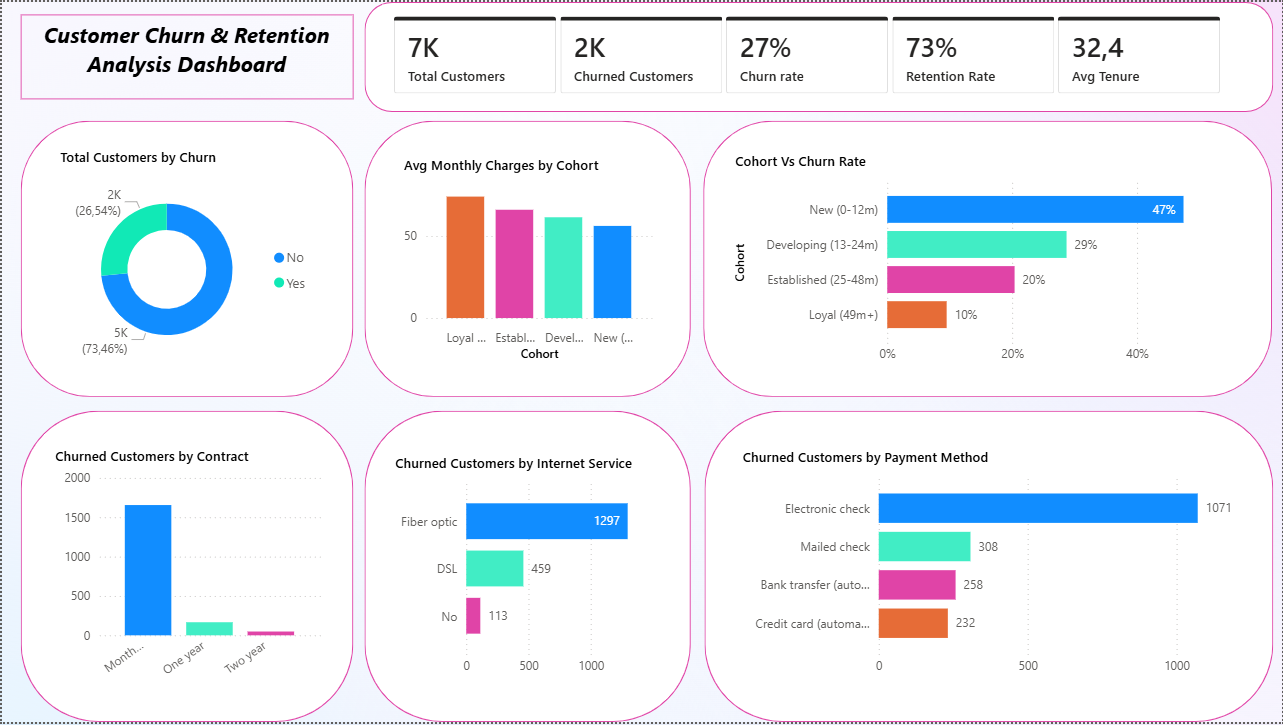

Layout of this report page (visuals, bound fields, positions):
{"tool":"powerbi","page":{"name":"Page 1","canvas":[1280,720],"ordinal":0},"visuals":[{"type":"group","id":"g1","title":"Group 3","box":[362.5,118.8,326.2,276.2],"z":0},{"type":"shape","box":[701.2,119.1,568.8,276.2],"z":0,"group":"g6"},{"type":"shape","box":[362.5,0,908.8,110],"z":1000},{"type":"shape","box":[18.8,118.8,332.5,276.2],"z":1000,"group":"g4"},{"type":"shape","box":[362.5,118.8,326.2,276.2],"z":1000,"group":"g1"},{"type":"clusteredBarChart","title":"Cohort Vs Churn Rate","fields":{"Category":["Telco.Cohort"],"Y":["Telco.Churn rate"]},"box":[730.9,140.7,504.6,237.5],"z":1000,"group":"g6"},{"type":"clusteredColumnChart","title":"Avg Monthly Charges by Cohort","fields":{"Y":["Telco.Avg Monthly Charges"],"Category":["Telco.Cohort"]},"box":[390,141.2,272.5,230],"z":2000},{"type":"shape","box":[18.8,408.8,332.5,311.2],"z":2000,"group":"g2"},{"type":"cardVisual","fields":{"Data":["Telco.Total Customers","Telco.Churned Customers","Telco.Churn rate","Telco.Retention Rate","Telco.Avg Tenure"]},"box":[380.6,2.4,852.9,101.8],"z":3000},{"type":"group","id":"g2","title":"Group 5","box":[18.8,408.8,332.5,311.2],"z":4000},{"type":"shape","box":[362.5,408.8,326.2,311.2],"z":4000,"group":"g5"},{"type":"group","id":"g3","title":"Group 6","box":[702.5,408.8,568.8,311.2],"z":5000},{"type":"group","id":"g4","title":"Group 3","box":[18.8,118.8,332.5,276.2],"z":6000},{"type":"shape","box":[702.5,408.8,568.8,311.2],"z":6000,"group":"g3"},{"type":"donutChart","title":"Total Customers by Churn","fields":{"Category":["Telco.Churn"],"Y":["Telco.Total Customers"]},"box":[46.1,133.8,278,245],"z":7000,"group":"g4"},{"type":"group","id":"g5","title":"Group 4","box":[362.5,408.8,326.2,311.2],"z":7000},{"type":"textbox","box":[18.8,12.5,332.5,85],"z":8000},{"type":"clusteredColumnChart","title":"Churned Customers by Contract","fields":{"Category":["Telco.Contract"],"Y":["Telco.Churned Customers"]},"box":[41.6,436.6,282.5,256.2],"z":8000,"group":"g2"},{"type":"group","id":"g6","title":"Group 1","box":[701.2,119.1,568.8,276.2],"z":9000},{"type":"clusteredBarChart","title":"Churned Customers by Internet Service","fields":{"Category":["Telco.InternetService"],"Y":["Telco.Churned Customers"]},"box":[380.6,440.4,291.2,248.8],"z":9000,"group":"g5"},{"type":"clusteredBarChart","title":"Churned Customers by Payment Method","fields":{"Category":["Telco.PaymentMethod"],"Y":["Telco.Churned Customers"]},"box":[728.7,433.8,526.2,255],"z":10000,"group":"g3"}]}

Visuals, with their boxes in screenshot pixels (x1, y1, x2, y2), scaled from the page's 1280x720 canvas onto the 1283x725 screenshot:
"Group 3" group: bbox(363, 120, 690, 398)
shape: bbox(703, 120, 1273, 398)
shape: bbox(363, 0, 1274, 111)
shape: bbox(19, 120, 352, 398)
shape: bbox(363, 120, 690, 398)
"Cohort Vs Churn Rate" clusteredBarChart: bbox(733, 142, 1238, 381)
"Avg Monthly Charges by Cohort" clusteredColumnChart: bbox(391, 142, 664, 374)
shape: bbox(19, 412, 352, 724)
cardVisual - Telco.Total Customers x Telco.Churned Customers: bbox(381, 2, 1236, 105)
"Group 5" group: bbox(19, 412, 352, 724)
shape: bbox(363, 412, 690, 724)
"Group 6" group: bbox(704, 412, 1274, 724)
"Group 3" group: bbox(19, 120, 352, 398)
shape: bbox(704, 412, 1274, 724)
"Total Customers by Churn" donutChart: bbox(46, 135, 325, 381)
"Group 4" group: bbox(363, 412, 690, 724)
textbox: bbox(19, 13, 352, 98)
"Churned Customers by Contract" clusteredColumnChart: bbox(42, 440, 325, 698)
"Group 1" group: bbox(703, 120, 1273, 398)
"Churned Customers by Internet Service" clusteredBarChart: bbox(381, 443, 673, 694)
"Churned Customers by Payment Method" clusteredBarChart: bbox(730, 437, 1258, 694)
